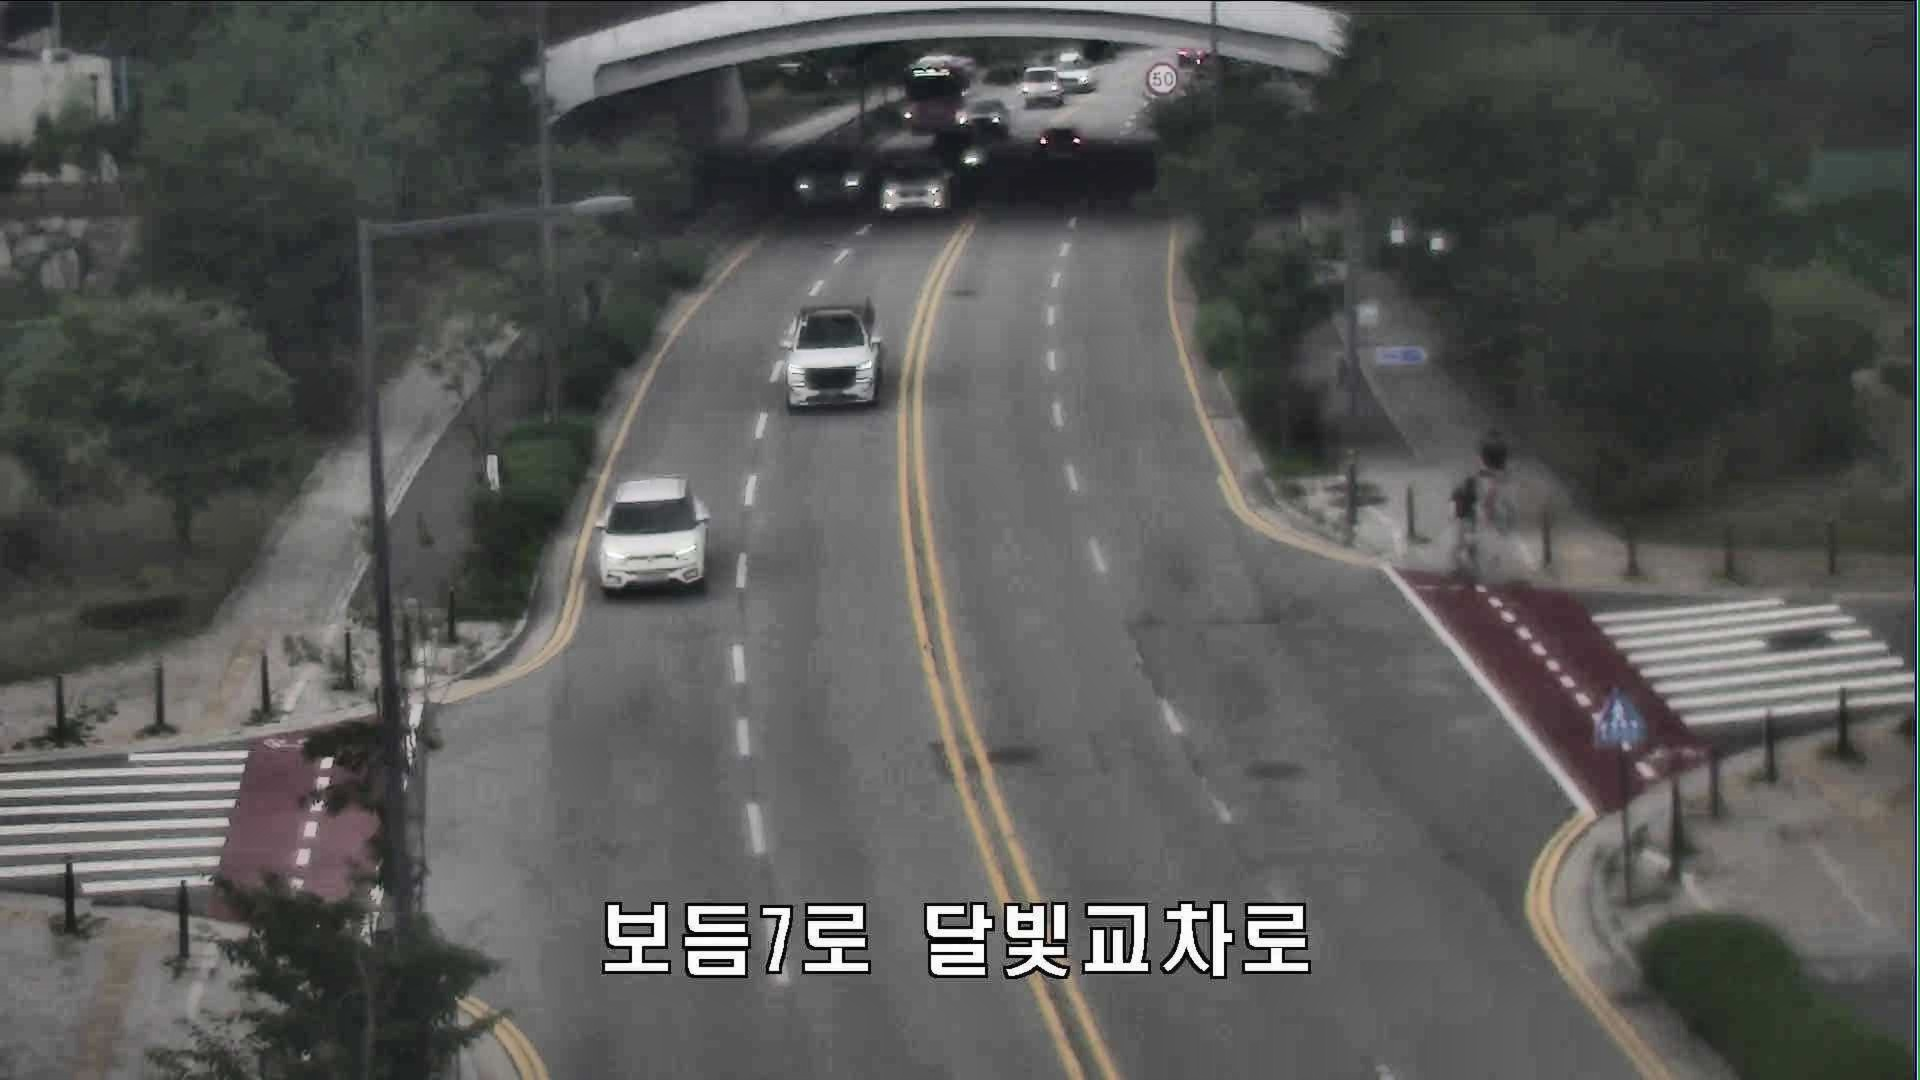sidewalk: (1445, 473, 1491, 566), (1474, 426, 1518, 513)
